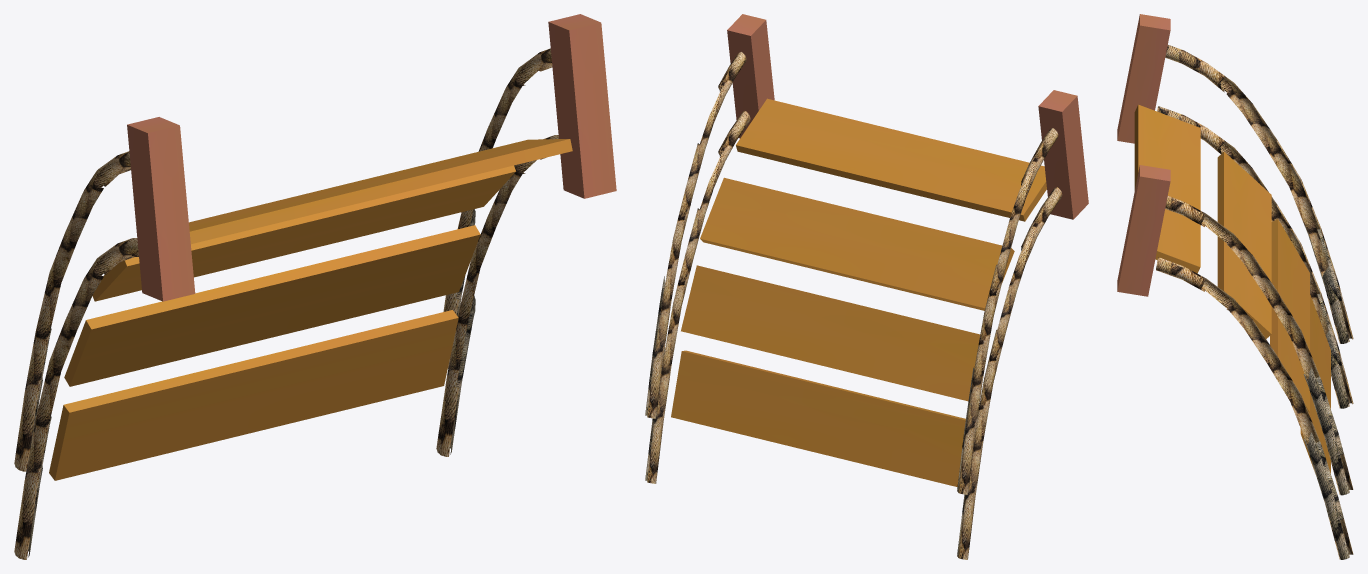
Rendered from yıkık köprü.fbx.
The picture shows the model from 3 angles, left to right: view 1: azimuth 30°, elevation 25°; view 2: azimuth 150°, elevation 25°; view 3: azimuth 270°, elevation 25°; orthographic projection. The views are drawn at different scales.
Parts seen in each view (by area): view 1: Cube.001, Cube, Circle; view 2: Cube.001, Circle, Cube; view 3: Cube.001, Circle, Cube.
Boxes of the visible parts, box(x1,y1,x2,y2) form: Cube.001: box(49, 139, 572, 480); Cube: box(127, 14, 616, 301); Circle: box(14, 48, 558, 559); Cube.001: box(671, 98, 1046, 486); Circle: box(645, 52, 1062, 559); Cube: box(727, 14, 1088, 219); Cube.001: box(1134, 104, 1330, 473); Circle: box(1156, 45, 1353, 559); Cube: box(1117, 14, 1170, 296).
Bounding box in the file's own units: 808 × 903 × 496.
